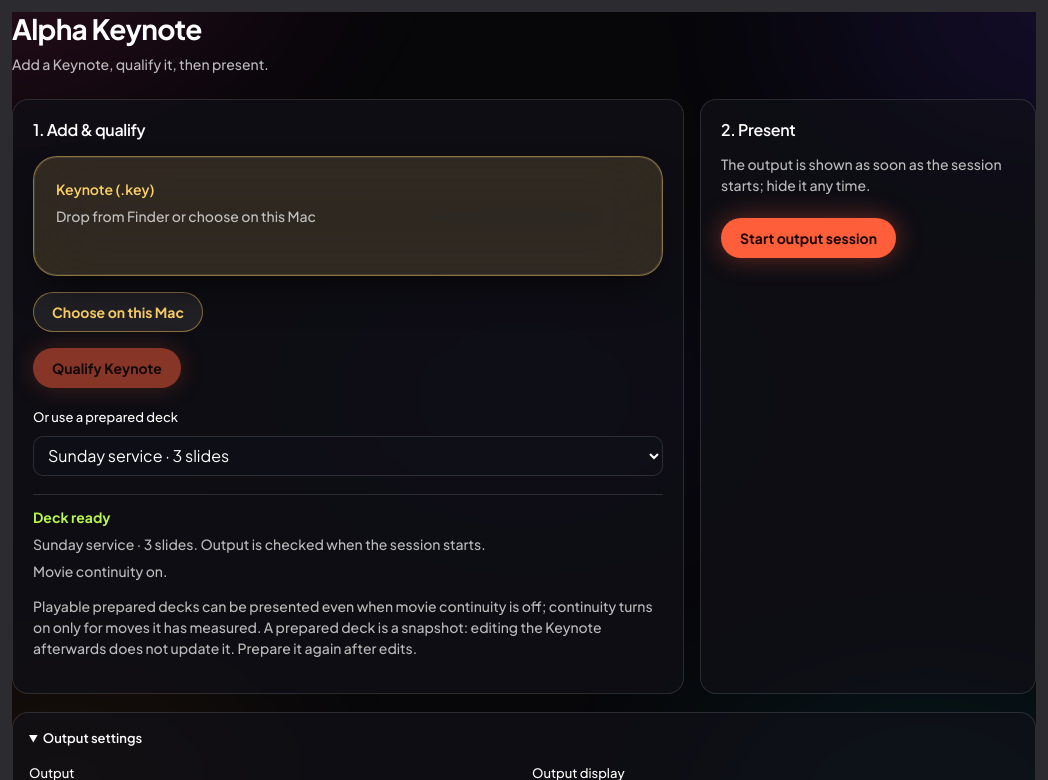
Scenario: LivePresenter › starts with automatic continuity and no continuity preference
What coordinates should you click on to do the following:
click the button "Start output session"
I would click on:
 (808, 238)
Its box is x1=721 y1=218 x2=896 y2=258.
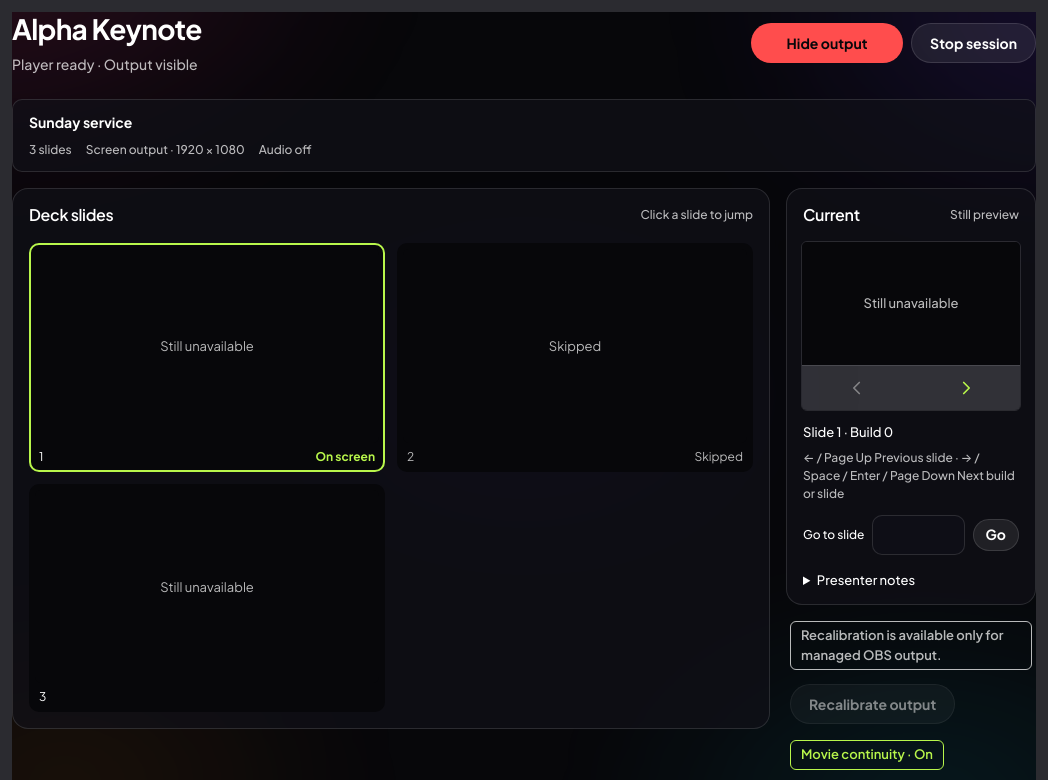
Now the text "Movie continuity · On" is shown, box x1=790 y1=740 x2=944 y2=770
